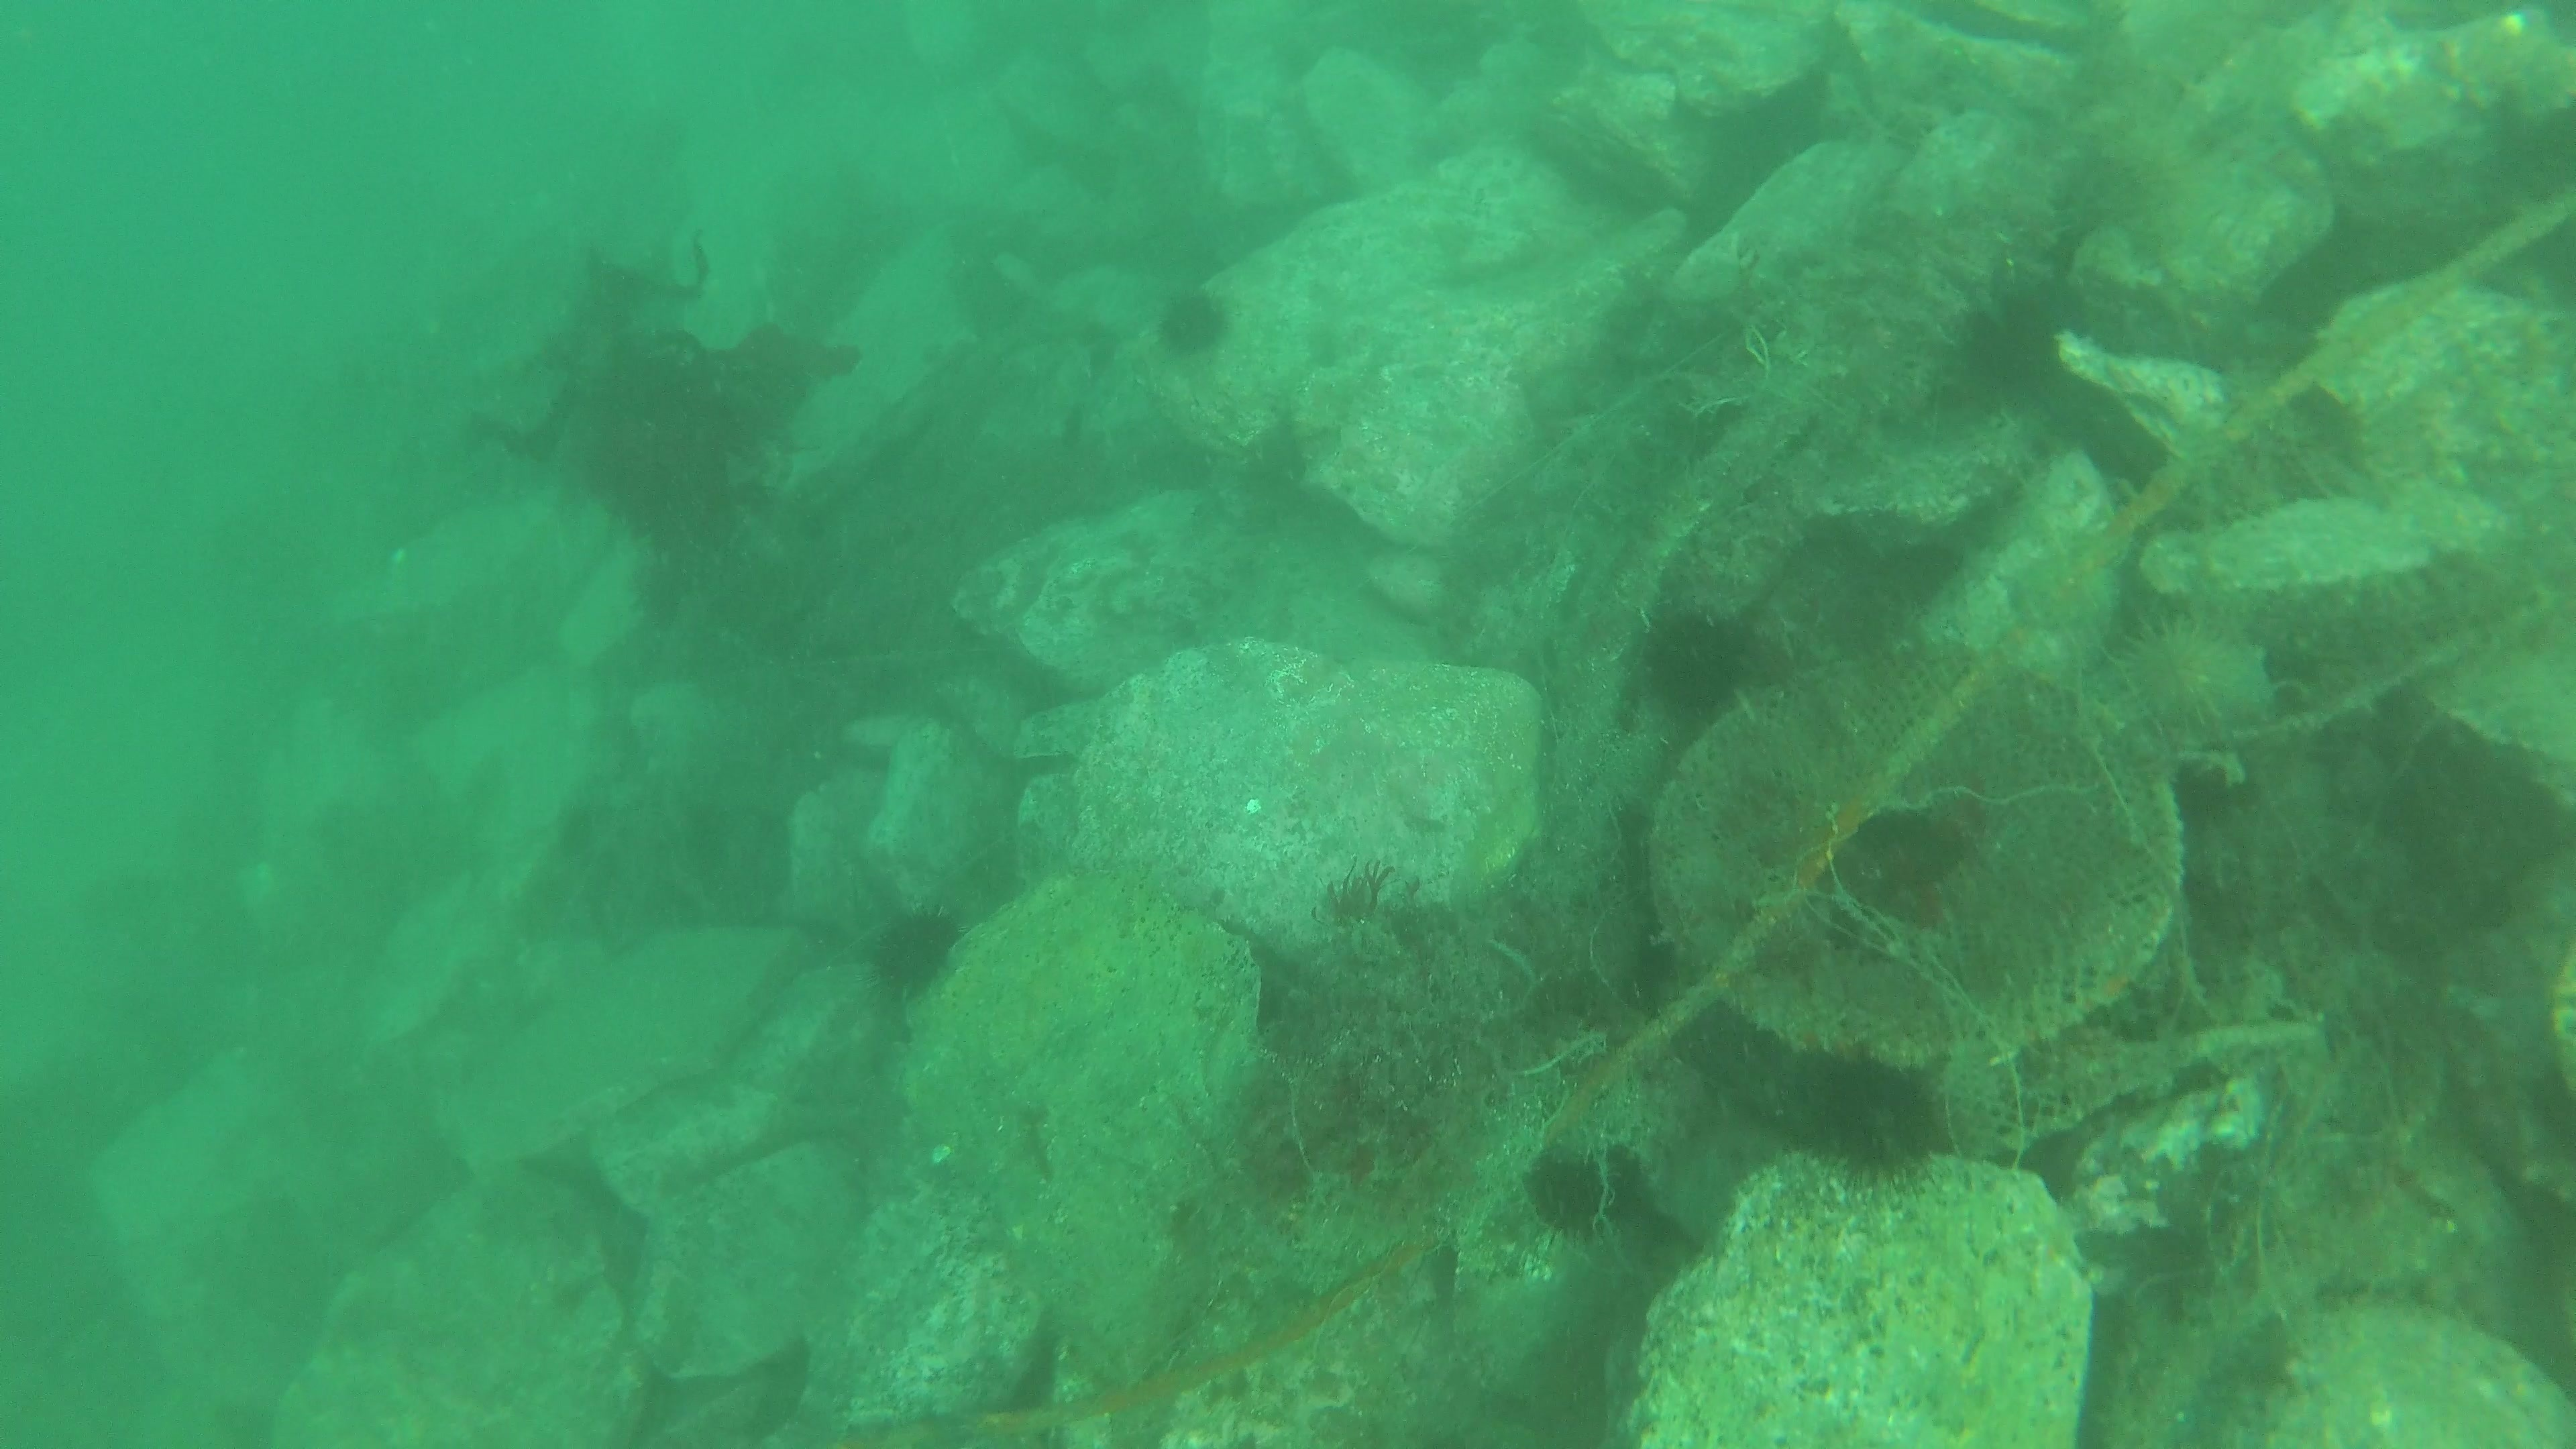echinus: (1783, 1040, 1951, 1185), (2107, 609, 2279, 748), (1633, 600, 1764, 725), (1944, 285, 2074, 410), (862, 897, 971, 1005), (1534, 1143, 1631, 1233), (1148, 280, 1238, 364)
starfish: (2005, 525, 2130, 653)
